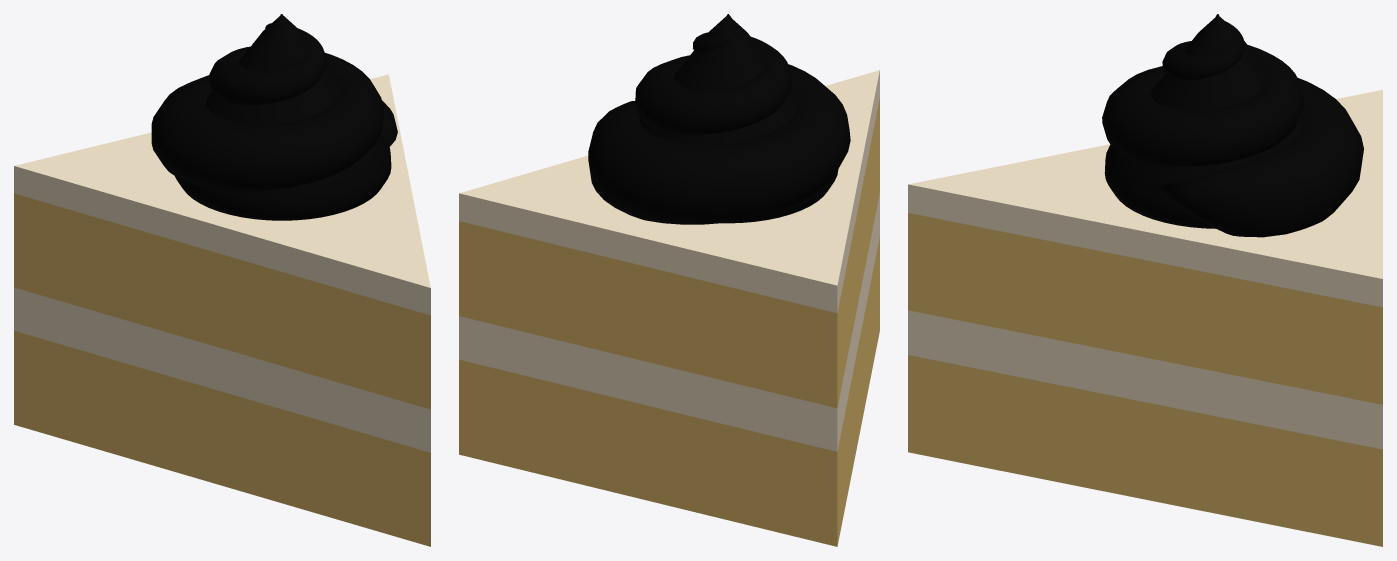
File: Menu_CreamCake.fbx
The picture shows the model from 3 angles, left to right: view 1: azimuth 30°, elevation 25°; view 2: azimuth 150°, elevation 25°; view 3: azimuth 270°, elevation 25°; orthographic projection. The views are drawn at different scales.
Parts seen in each view (by area): view 1: Menu_CreamCake.001; view 2: Menu_CreamCake.001; view 3: Menu_CreamCake.001.
Part boxes in pixels (x1,y1,x2,y2): Menu_CreamCake.001: [14, 14, 430, 546]; Menu_CreamCake.001: [459, 14, 879, 546]; Menu_CreamCake.001: [908, 14, 1382, 546].
Bounding box in the file's own units: 43.52 × 46.99 × 46.13.
